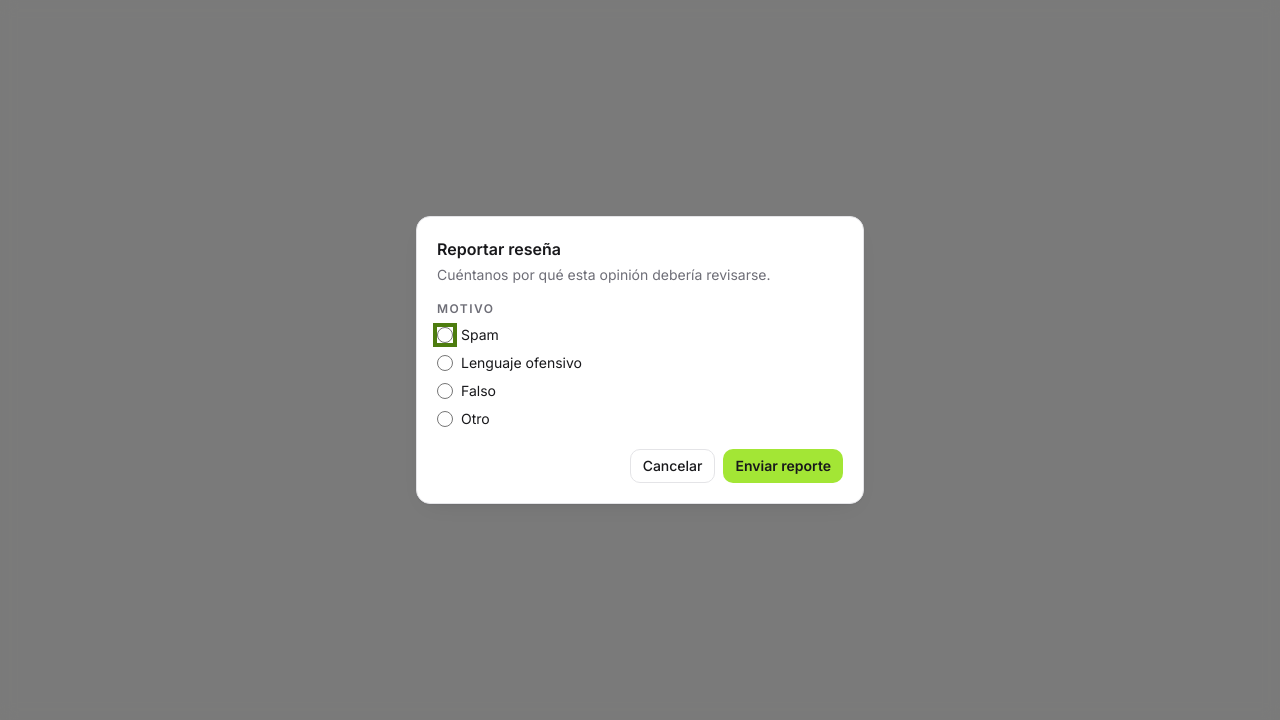
Test case: ReportarResenaModal › muestra el campo de detalle solo al elegir Otro
Expected: the field labelled "Cuéntanos qué ocurre" is not shown
Click the radio button labelled "Otro" at (445, 419), box [437,411,453,427]
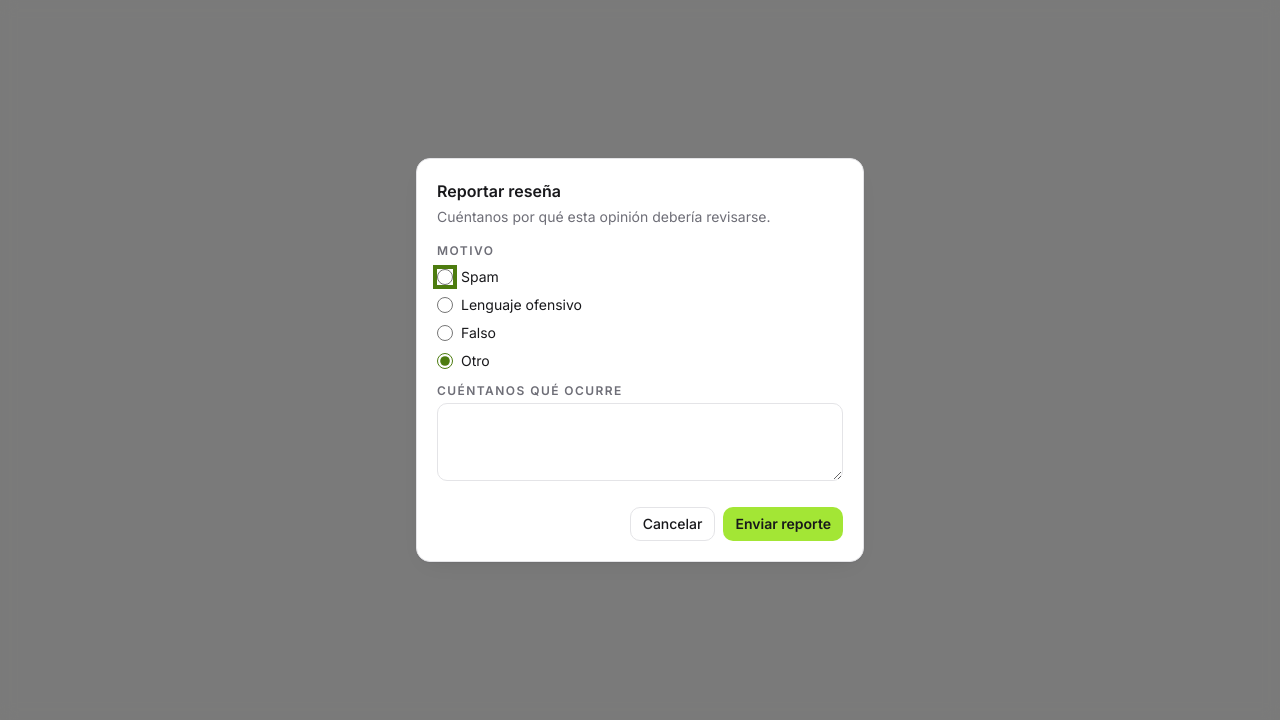
Expected: the text box labelled "Cuéntanos qué ocurre" is shown, [437,403,843,481]
